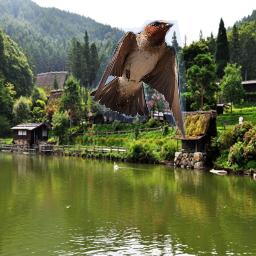Swallow: (90, 20, 186, 140)
